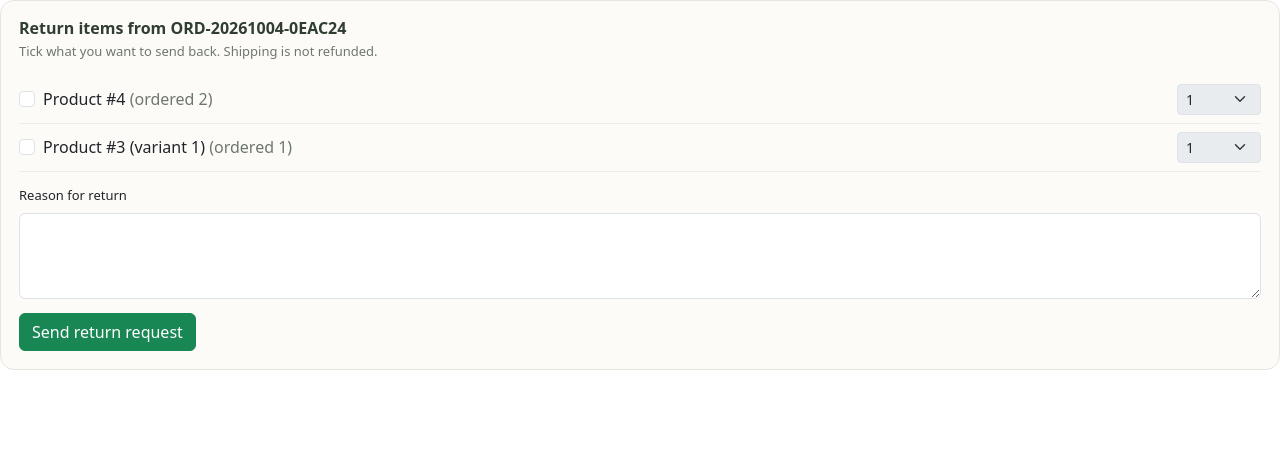
Test: ReturnRequestForm › shows the server message when the return window has closed
Step 1. Click the checkbox labelled "Product #4 (ordered 2)" → (27, 99), box [19,91,35,107]
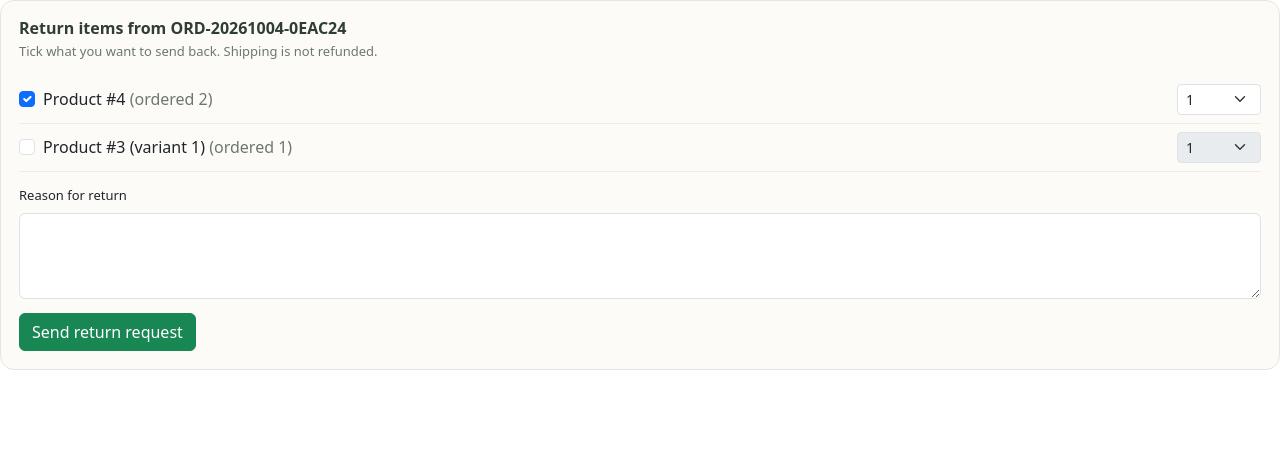
Step 2. Type "damaged" into the text box labelled "Reason for return" → (640, 256), box [19,213,1261,299]
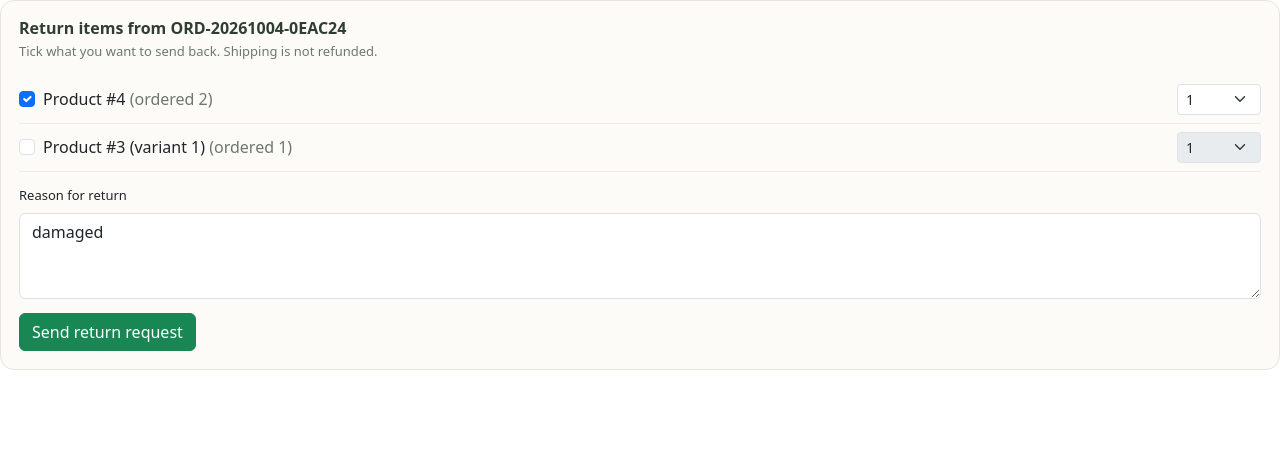
Step 3. Click the button "Send return request" → (107, 332), box [19,313,196,351]
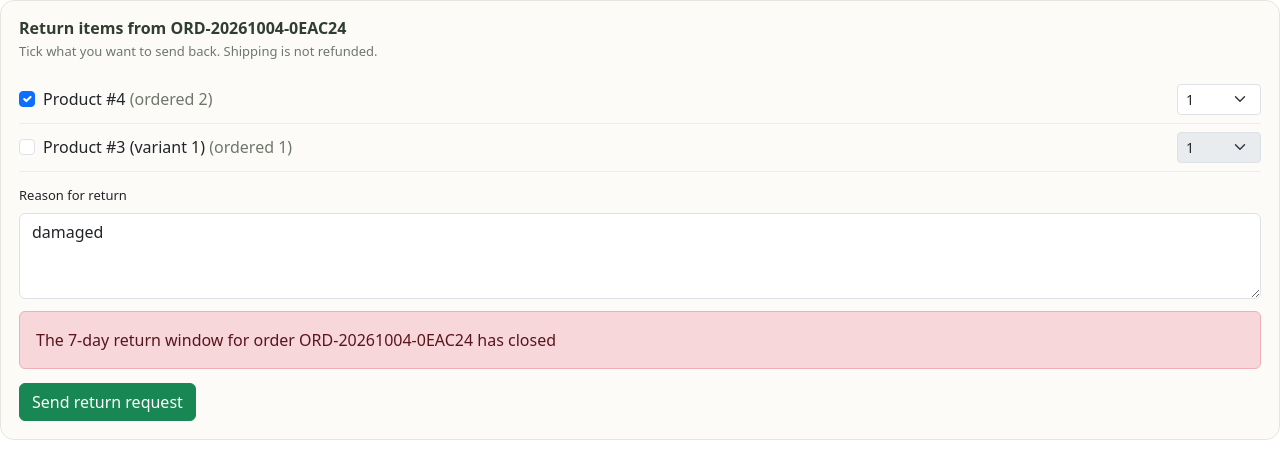
Check: the button "Send return request" is enabled, box [19,383,196,421]
Check: the message shows "return window", box [36,329,556,351]
